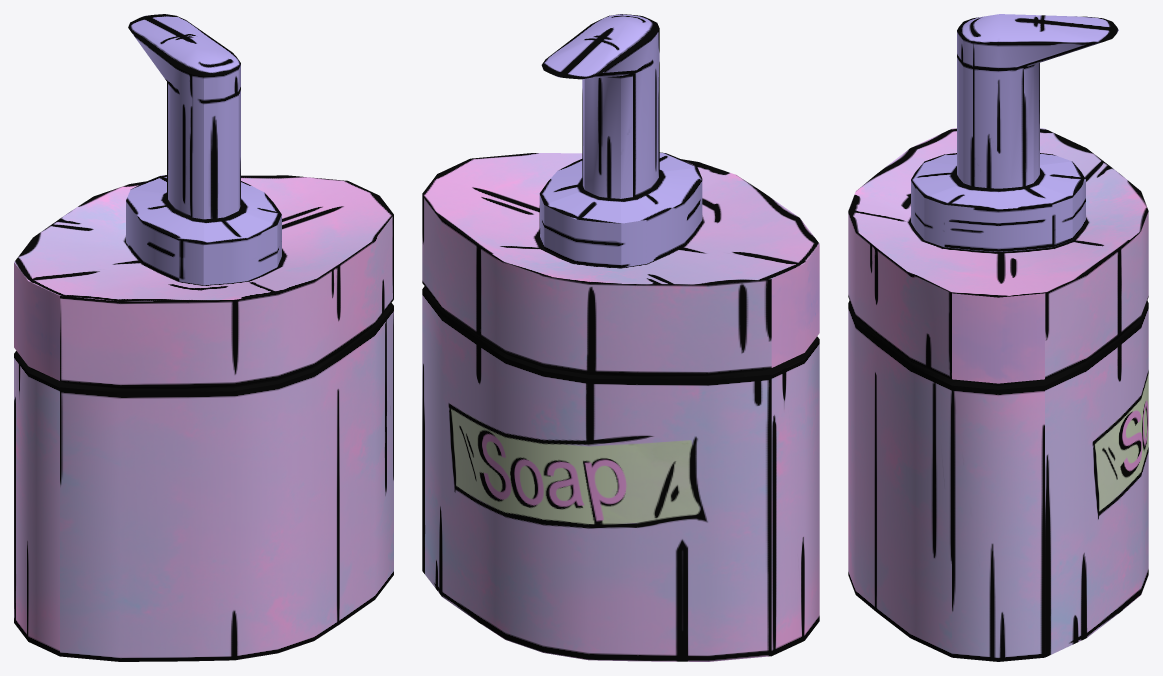
The model's file is soap.fbx.
The picture shows the model from 3 angles, left to right: view 1: azimuth 30°, elevation 25°; view 2: azimuth 150°, elevation 25°; view 3: azimuth 270°, elevation 25°; orthographic projection. The views are drawn at different scales.
Parts seen in each view (by area): view 1: soap1; view 2: soap1; view 3: soap1.
Boxes of the visible parts, bbox=[...] form: soap1: bbox=[14, 14, 393, 661]; soap1: bbox=[422, 14, 819, 661]; soap1: bbox=[848, 14, 1148, 661].
Bounding box in the file's own units: 0.1196 × 0.1795 × 0.0876.
